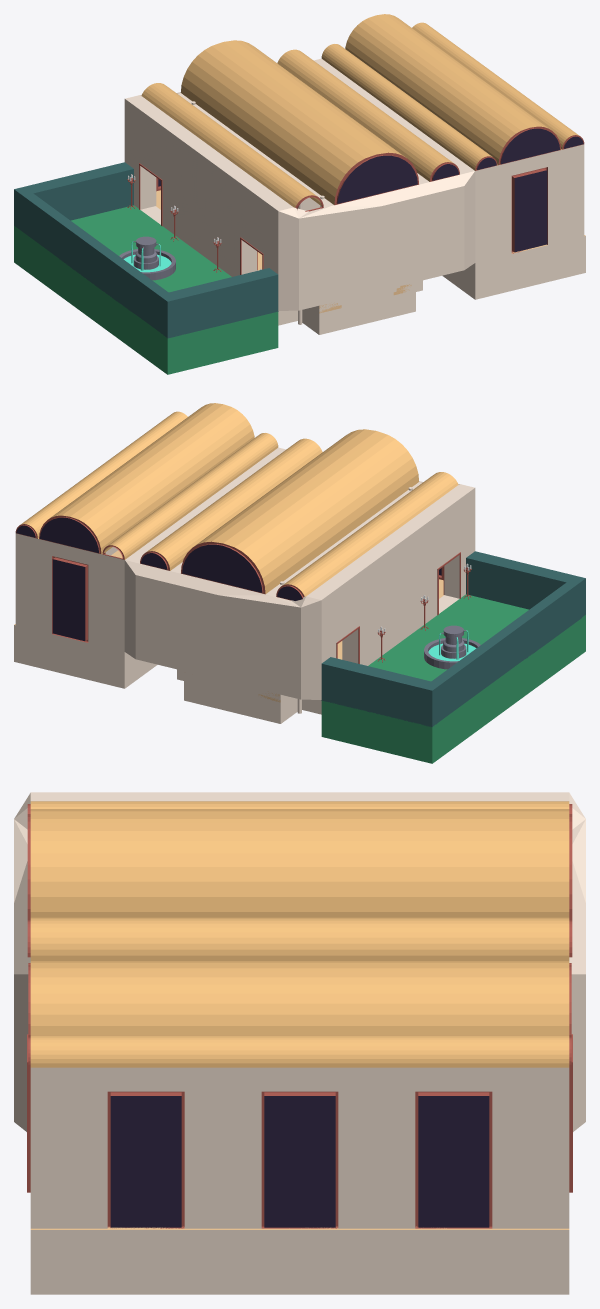
File: map_mk3.fbx
The picture shows the model from 3 angles, top to bottom: view 1: azimuth 30°, elevation 25°; view 2: azimuth 150°, elevation 25°; view 3: azimuth 270°, elevation 25°; orthographic projection. The views are drawn at different scales.
Visible parts, largest first — view 1: sala da ballo base, tetto, tetto.001, siepe, muro1, fontana; view 2: sala da ballo base, tetto, tetto.001, siepe, muro1, fontana; view 3: muro1, tetto, tetto.001, sala da ballo base.
Part boxes in pixels (<box>): sala da ballo base: <box>14,58,585,374</box>; tetto: <box>141,40,459,211</box>; tetto.001: <box>321,14,584,170</box>; siepe: <box>14,162,278,338</box>; muro1: <box>475,144,584,262</box>; fontana: <box>119,236,175,280</box>; sala da ballo base: <box>14,447,585,763</box>; tetto: <box>140,429,458,600</box>; tetto.001: <box>15,403,278,559</box>; siepe: <box>321,551,585,727</box>; muro1: <box>15,533,124,651</box>; fontana: <box>424,625,480,669</box>; muro1: <box>27,1034,572,1228</box>; tetto: <box>27,801,572,960</box>; tetto.001: <box>28,961,571,1067</box>; sala da ballo base: <box>14,792,585,1294</box>.
Bounding box in the file's own units: 2375 × 955 × 1604.
